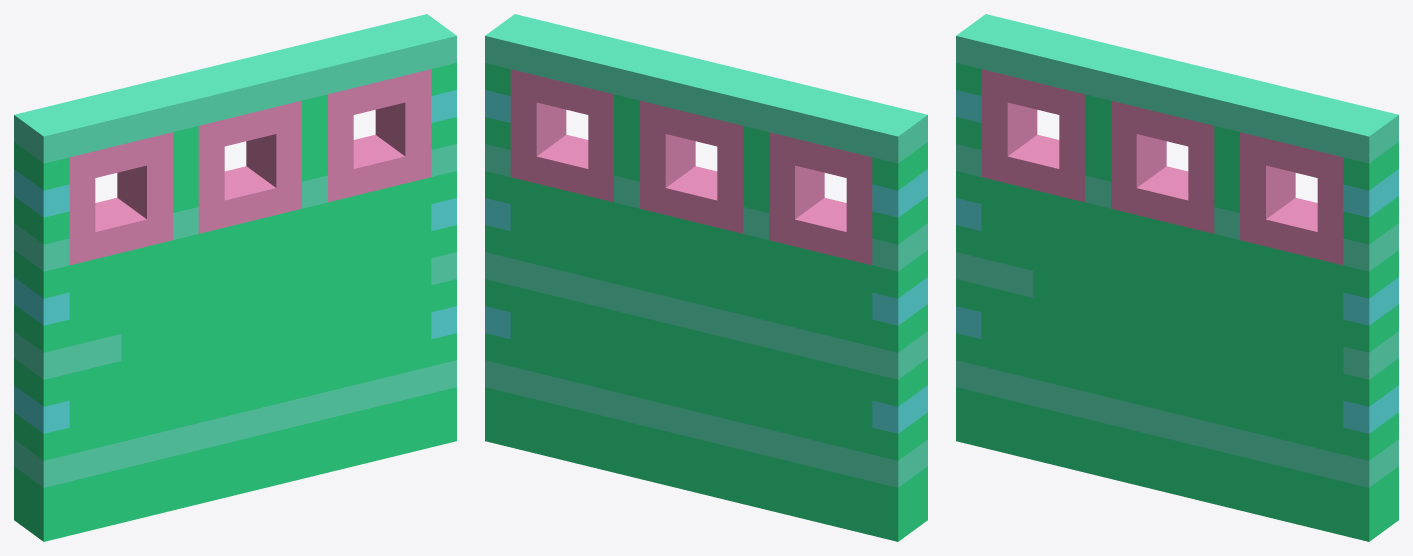
File: doorboss.fbx
3 views of the same model, side by side, from view 1: azimuth 30°, elevation 25°; view 2: azimuth 150°, elevation 25°; view 3: azimuth 330°, elevation 25° (orthographic).
Visible parts, largest first — view 1: 对象; view 2: 对象; view 3: 对象.
Part boxes in pixels (<box>): 对象: <box>14,14,456,541</box>; 对象: <box>485,14,927,541</box>; 对象: <box>956,14,1398,541</box>.
Bounding box in the file's own units: 16 × 15 × 2.
Materials: 1 (1 with a texture image).
